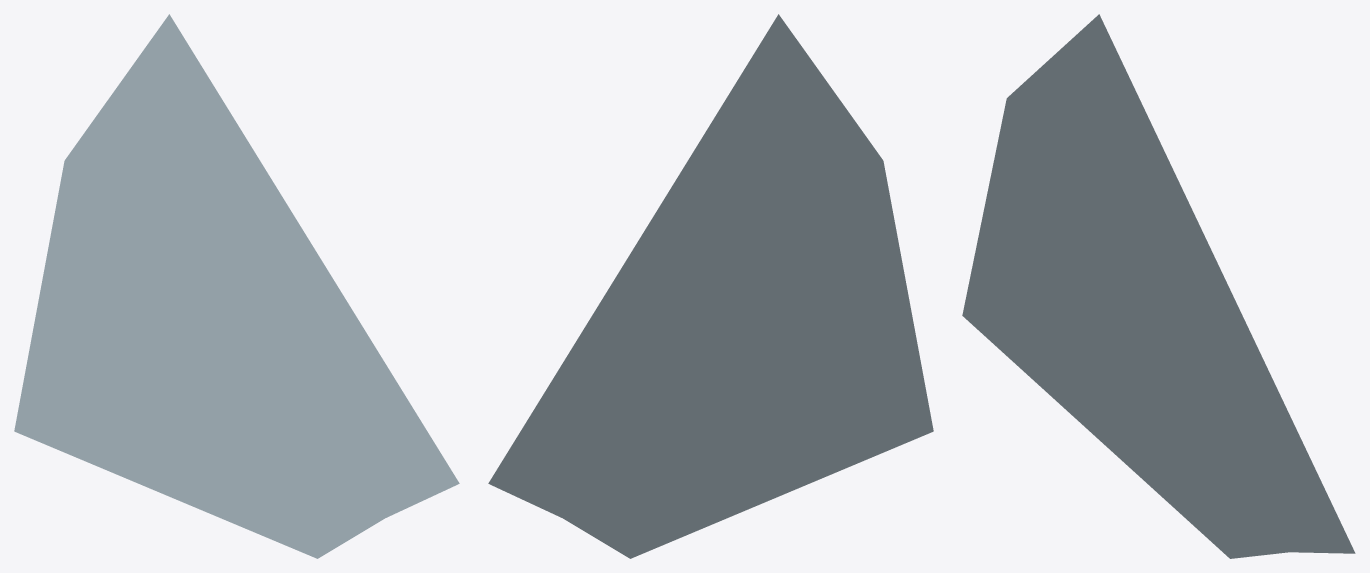
3 views of the same model, side by side, from view 1: azimuth 30°, elevation 25°; view 2: azimuth 150°, elevation 25°; view 3: azimuth 330°, elevation 25° (orthographic). The views are drawn at different scales.
Parts seen in each view (by area): view 1: pCube41; view 2: pCube41; view 3: pCube41.
Boxes of the visible parts, x1=… form: pCube41: x1=14, y1=14, x2=459, y2=558; pCube41: x1=488, y1=14, x2=933, y2=558; pCube41: x1=962, y1=14, x2=1355, y2=558.
Size of the model in its own units: 23.86 by 29.73 by 7.63e-06.
